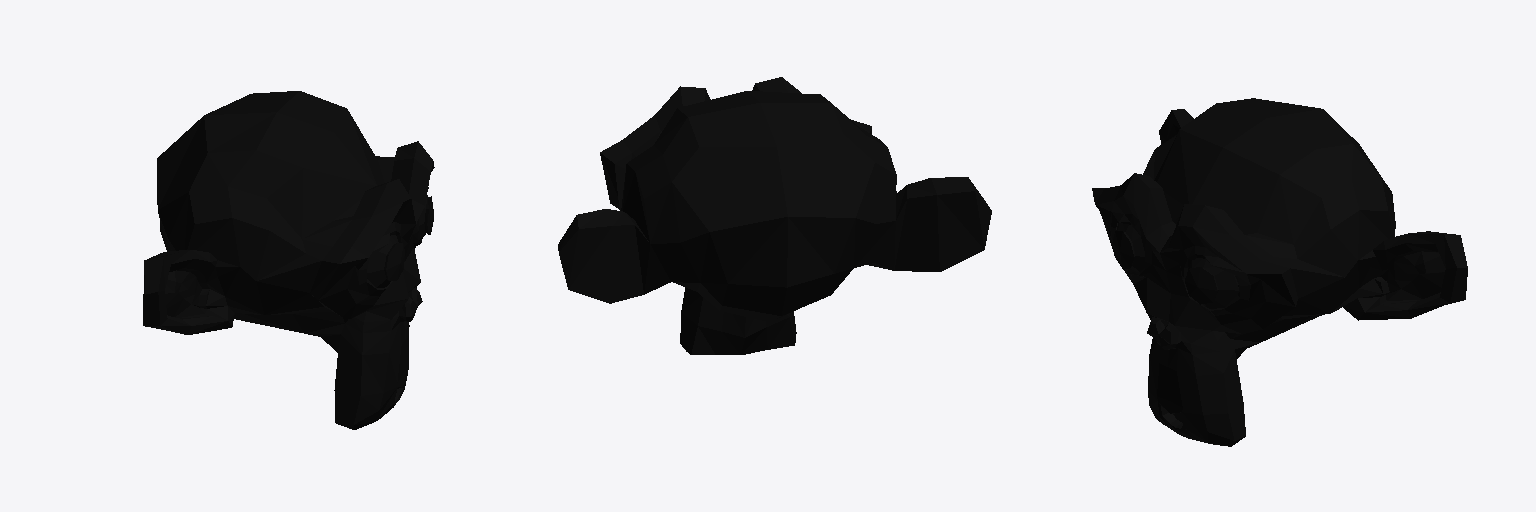
The picture shows the model from 3 angles: view 1: azimuth 30°, elevation 25°; view 2: azimuth 150°, elevation 25°; view 3: azimuth 270°, elevation 25°; orthographic projection.
Visible parts, largest first — view 1: Suzanne; view 2: Suzanne; view 3: Suzanne.
Part boxes in pixels (bbox=[...]): Suzanne: bbox=[143, 91, 434, 429]; Suzanne: bbox=[558, 77, 991, 354]; Suzanne: bbox=[1092, 98, 1467, 446].
Size of the model in its own units: 5.15 by 4.27 by 5.01.